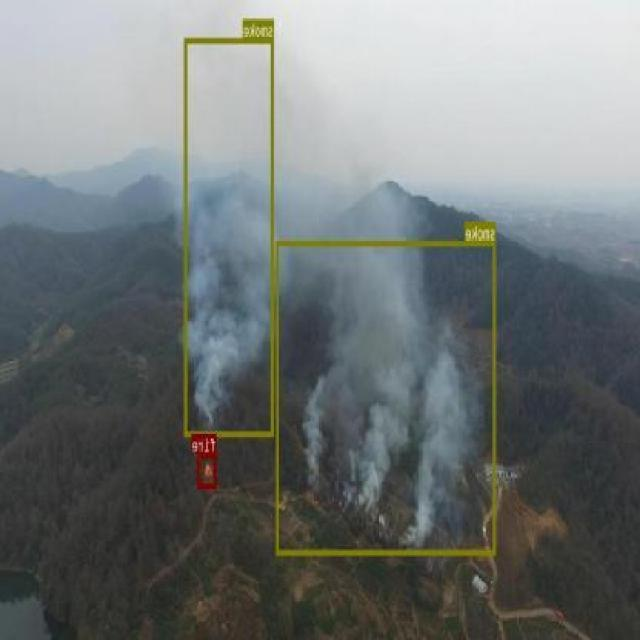Fire: (277, 240, 497, 554), (186, 37, 274, 437)
Smoke: (198, 452, 217, 488)
